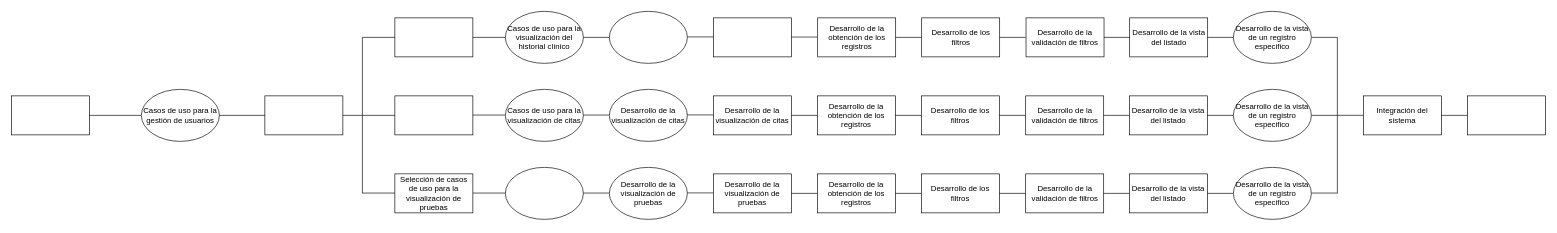
Image size: 1557x233. Some labels were removed from this diagram. Here are the shapes that lost their labels. From the top down, the centre of each, then its label:
At pixel 433 37: "Selección de casos de uso para la visualización del historial clínico".
At pixel 648 37: "Desarrollo de la visualización de historiales clínicos".
At pixel 752 37: "Desarrolo de la visualización del historial clínico".
At pixel 50 115: "Selección de casos de uso para la gestión de usuarios".
At pixel 303 115: "Desarrolo del módulo de gestión de usuarios".
At pixel 433 115: "Selección de casos de uso para la visualización de citas".
At pixel 1506 115: "Deployment del sistema".
At pixel 544 193: "Casos de uso para la visualización de pruebas".
